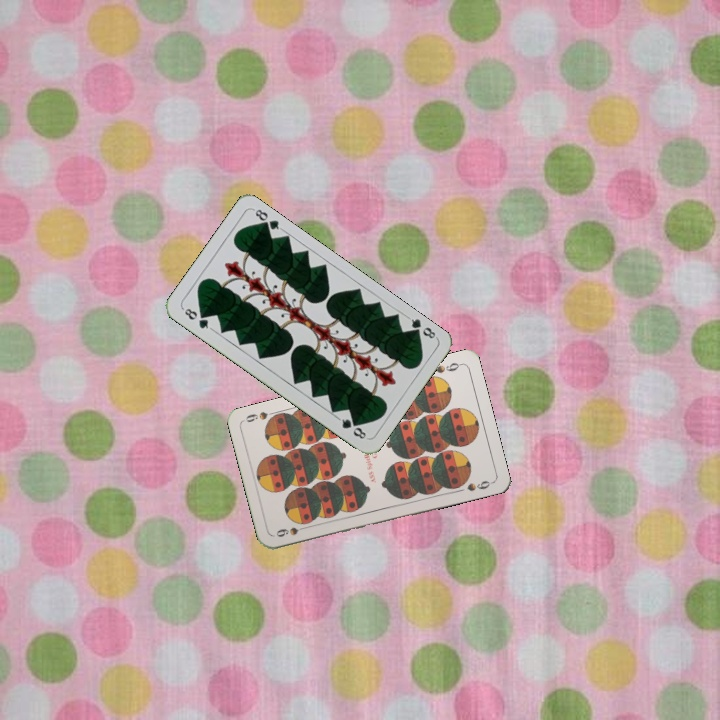G8: (179, 304, 215, 332), (404, 313, 440, 341)
S9: (272, 522, 312, 540), (432, 358, 464, 376)
